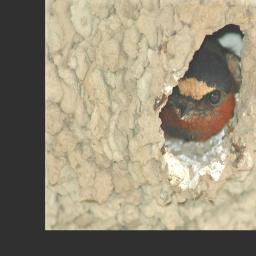Swallow: (159, 37, 237, 143)
